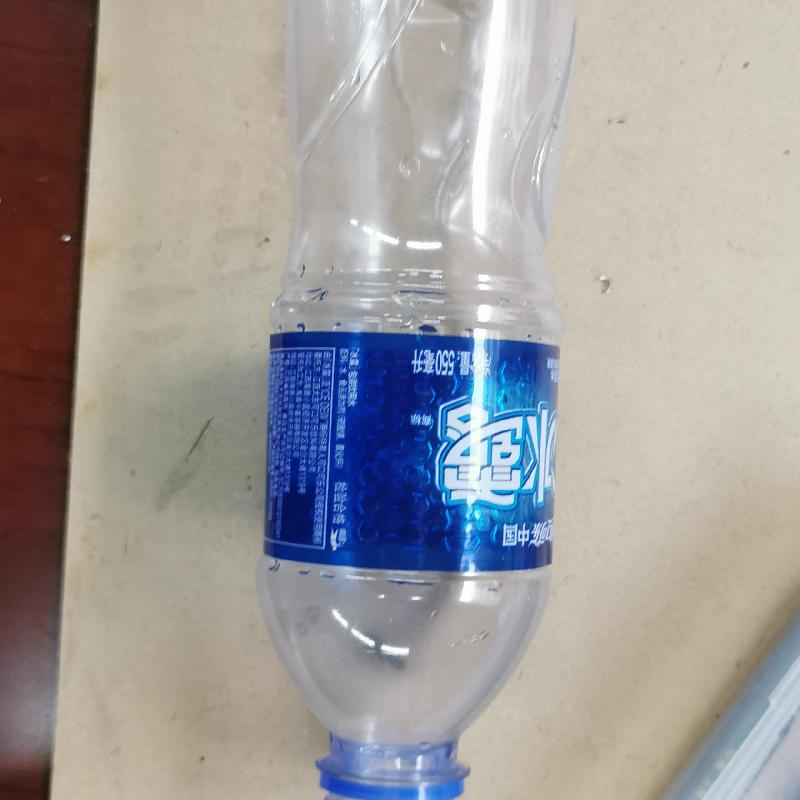bottles: (252, 0, 580, 799)
